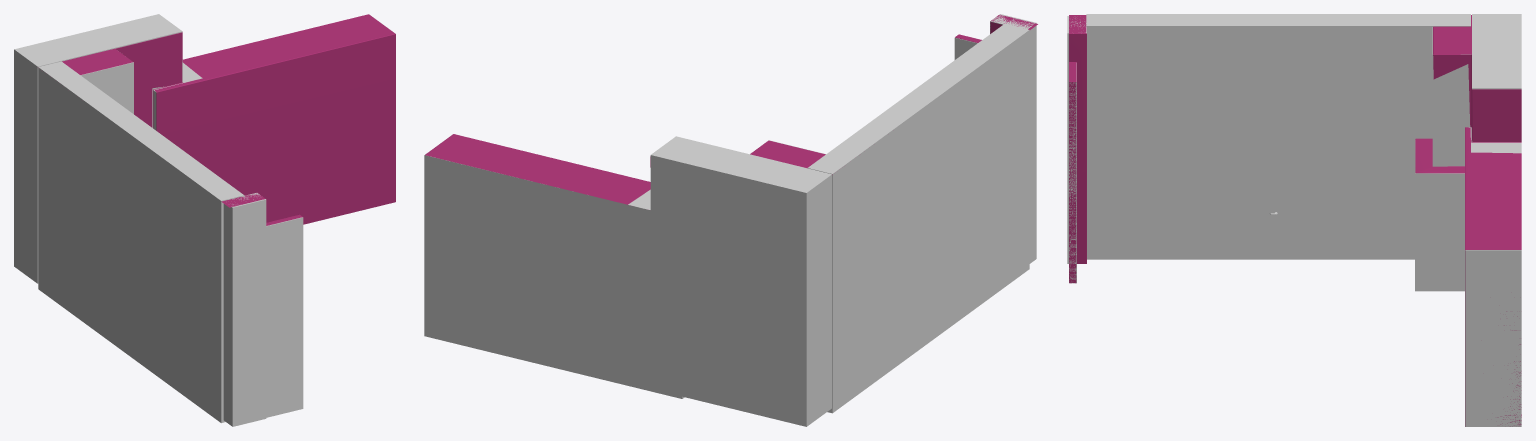
File: StudioLuxuryInnerWall_01_Mesh.fbx
The picture shows the model from 3 angles, left to right: view 1: azimuth 30°, elevation 25°; view 2: azimuth 150°, elevation 25°; view 3: azimuth 270°, elevation 25°; orthographic projection. The views are drawn at different scales.
Parts seen in each view (by area): view 1: StudioLuxuryInnerWall_01_COL, StudioLuxuryInnerWall_01_Mesh; view 2: StudioLuxuryInnerWall_01_COL, StudioLuxuryInnerWall_01_Mesh; view 3: StudioLuxuryInnerWall_01_COL, StudioLuxuryInnerWall_01_Mesh.
Boxes of the visible parts, x1,y1,x2,y2 form: StudioLuxuryInnerWall_01_COL: (14,14,303,426); StudioLuxuryInnerWall_01_Mesh: (62,14,395,225); StudioLuxuryInnerWall_01_COL: (424,14,1036,426); StudioLuxuryInnerWall_01_Mesh: (425,14,1037,204); StudioLuxuryInnerWall_01_COL: (1067,14,1521,426); StudioLuxuryInnerWall_01_Mesh: (1069,15,1521,426).
Size of the model in its own units: 874 by 523 by 922.
